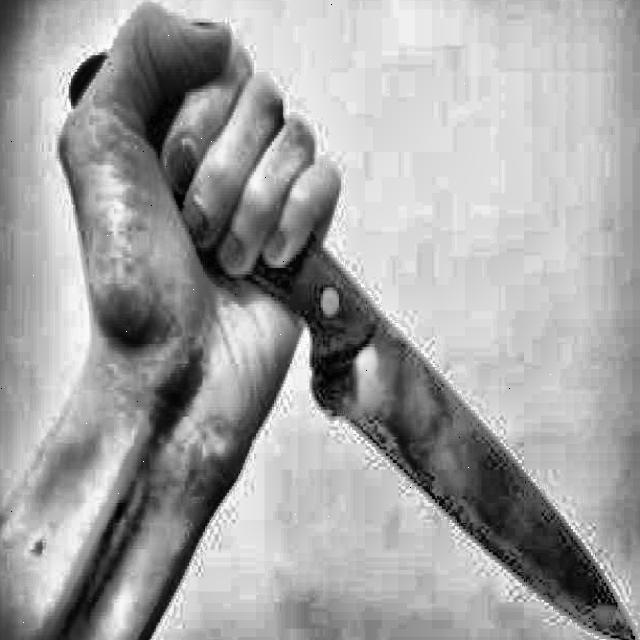knife: (70, 54, 636, 640)
